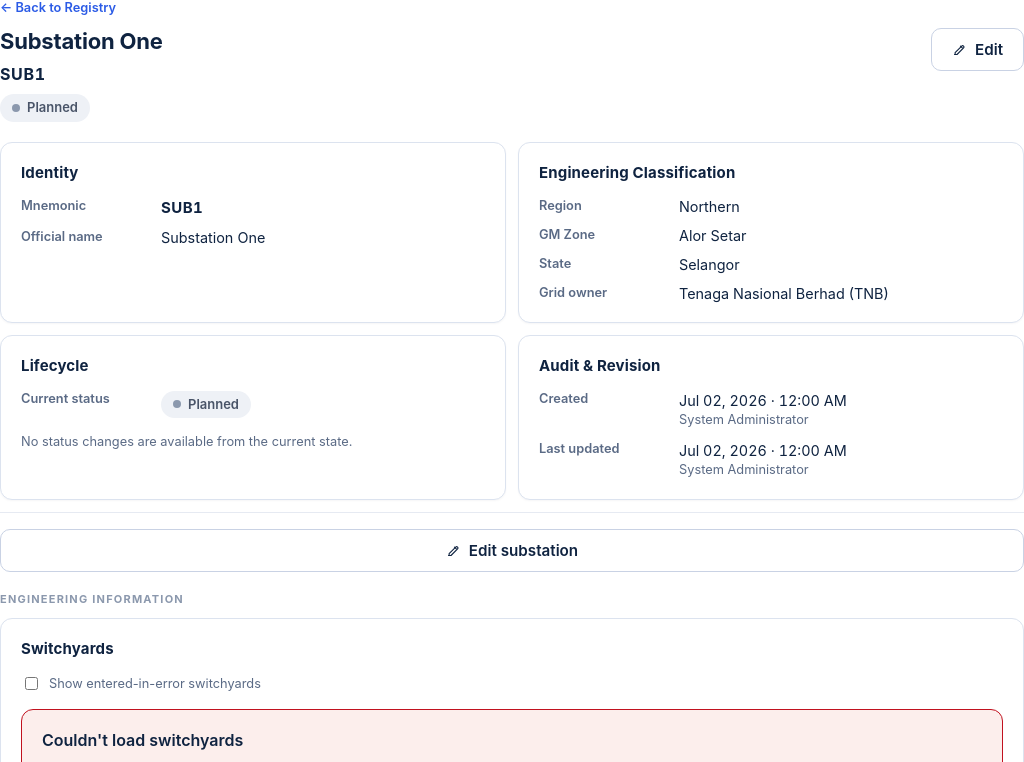
Test: SubstationDetailPage › preloads the current Region, State, and Grid Owner in the edit form
Click the button "Edit substation": (512,550) 0,529 -> 1023,572
(page scrolled)
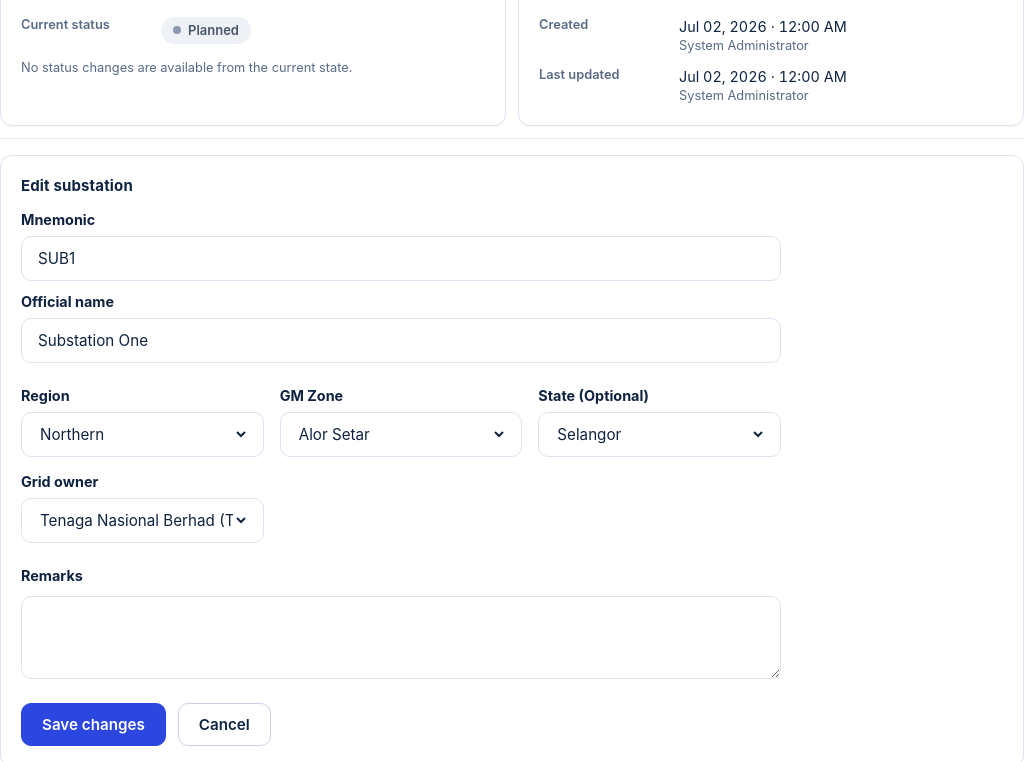
Expected: the dropdown labelled "Region" shows "Northern", 36,413 -> 249,456
Expected: the dropdown labelled "State (Optional)" shows "Selangor", 553,413 -> 766,456
Expected: the dropdown labelled "Grid owner" shows "Tenaga Nasional Berhad (TNB)", 36,499 -> 249,542
